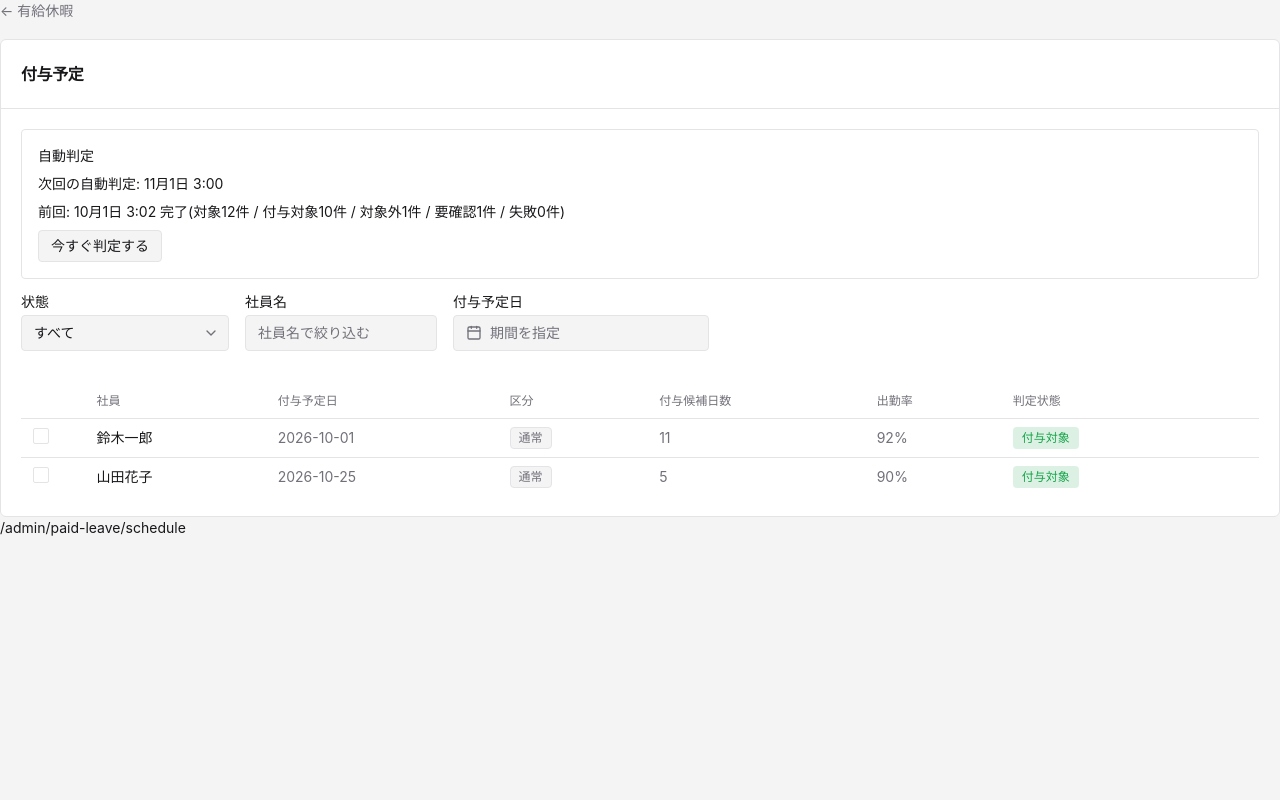
Scenario: PaidLeaveSchedulePage › warns in the confirmation when a selected entry is scheduled after today
Expected: the text "山田花子" is shown, [84,458,266,496]
Click the checkbox named "鈴木一郎を選択". click: (41, 436)
box: [33,428,49,444]
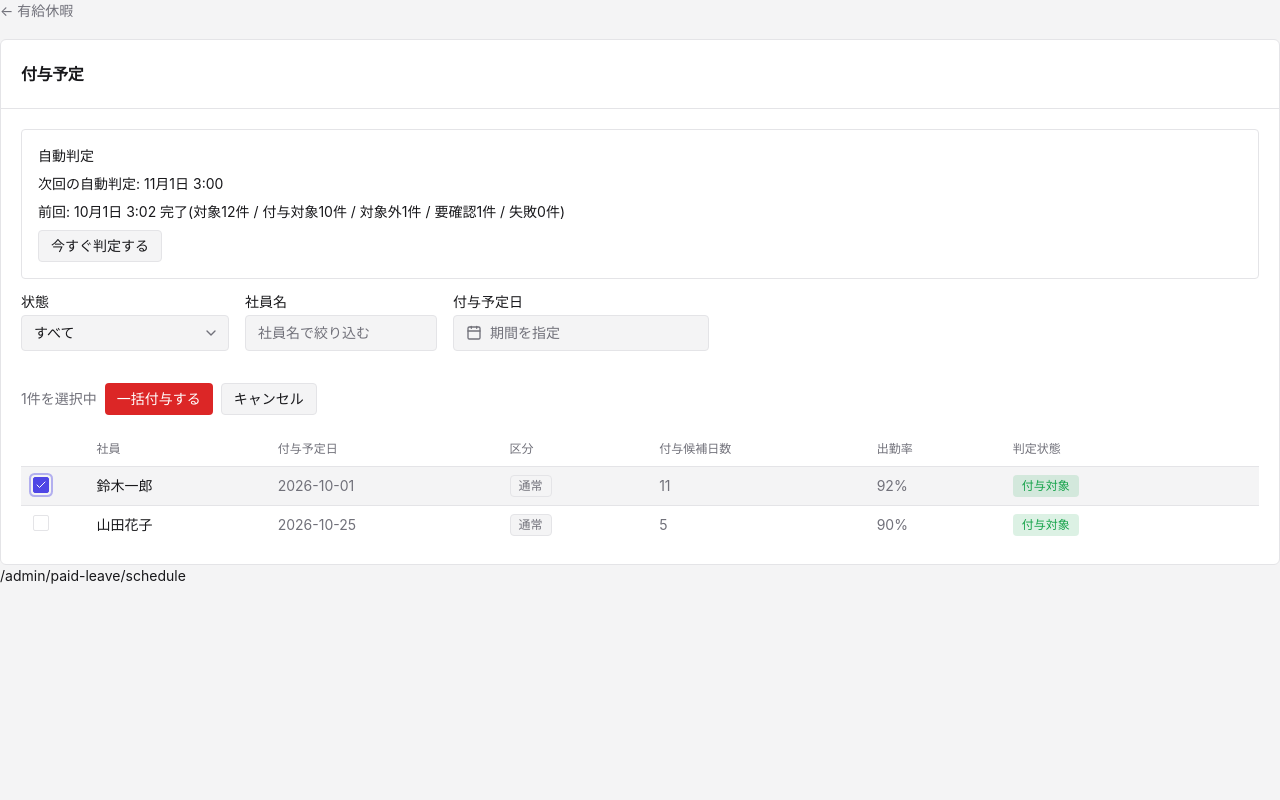
Click the checkbox named "山田花子を選択". click: (41, 523)
box: [33,515,49,531]
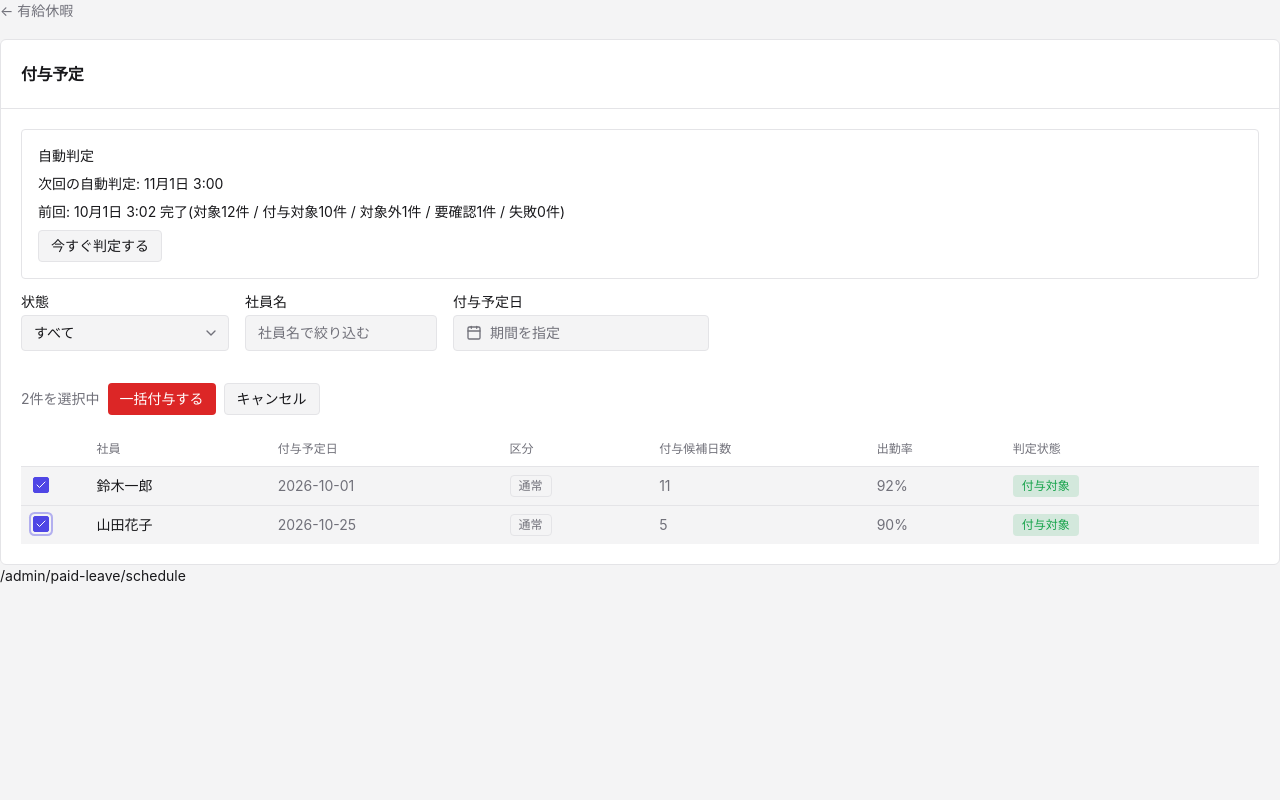
Click the button "一括付与する". click: (162, 399)
box: [108,383,216,415]
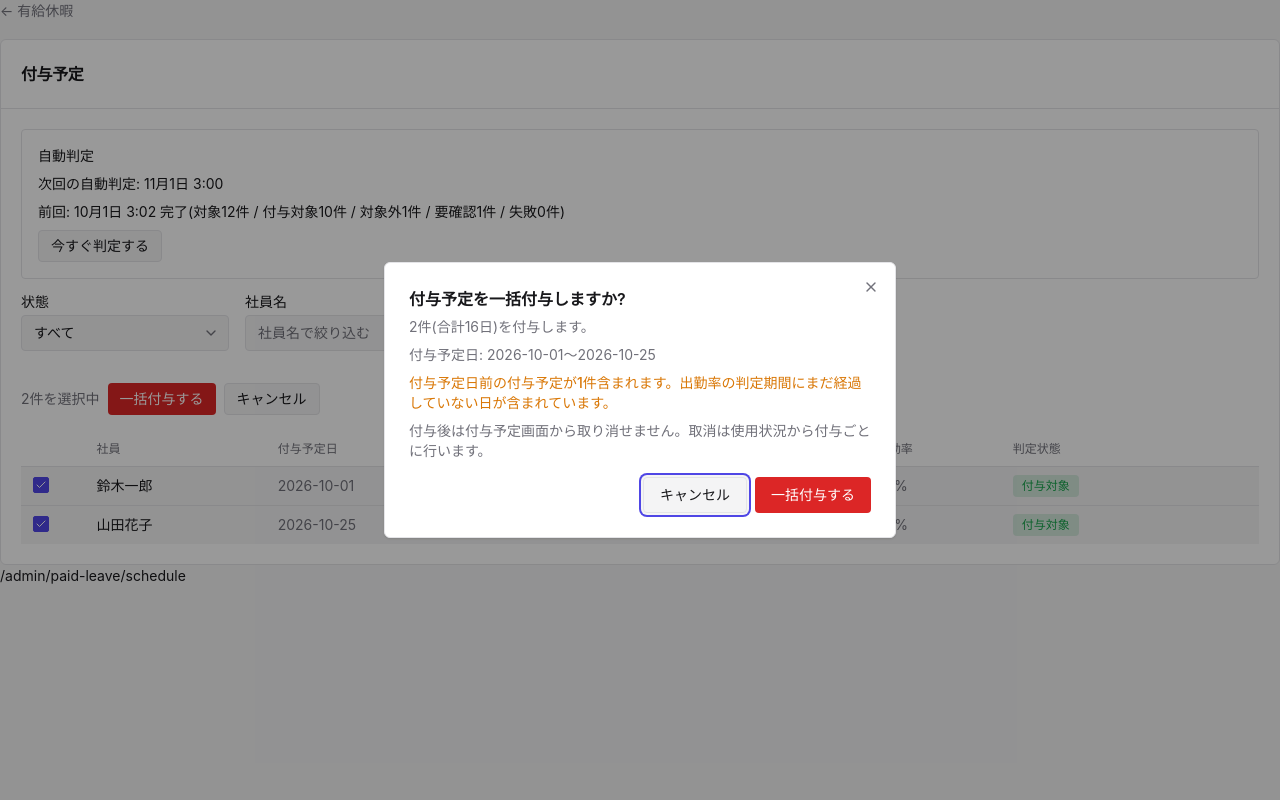
Expected: the text "2件(合計16日)を付与します。" is shown, [409,318,595,335]
Expected: the text "付与予定日前の付与予定が1件含まれます。出勤率の判定期間にまだ経過していない日が含まれています。" is shown, [409,373,871,413]
